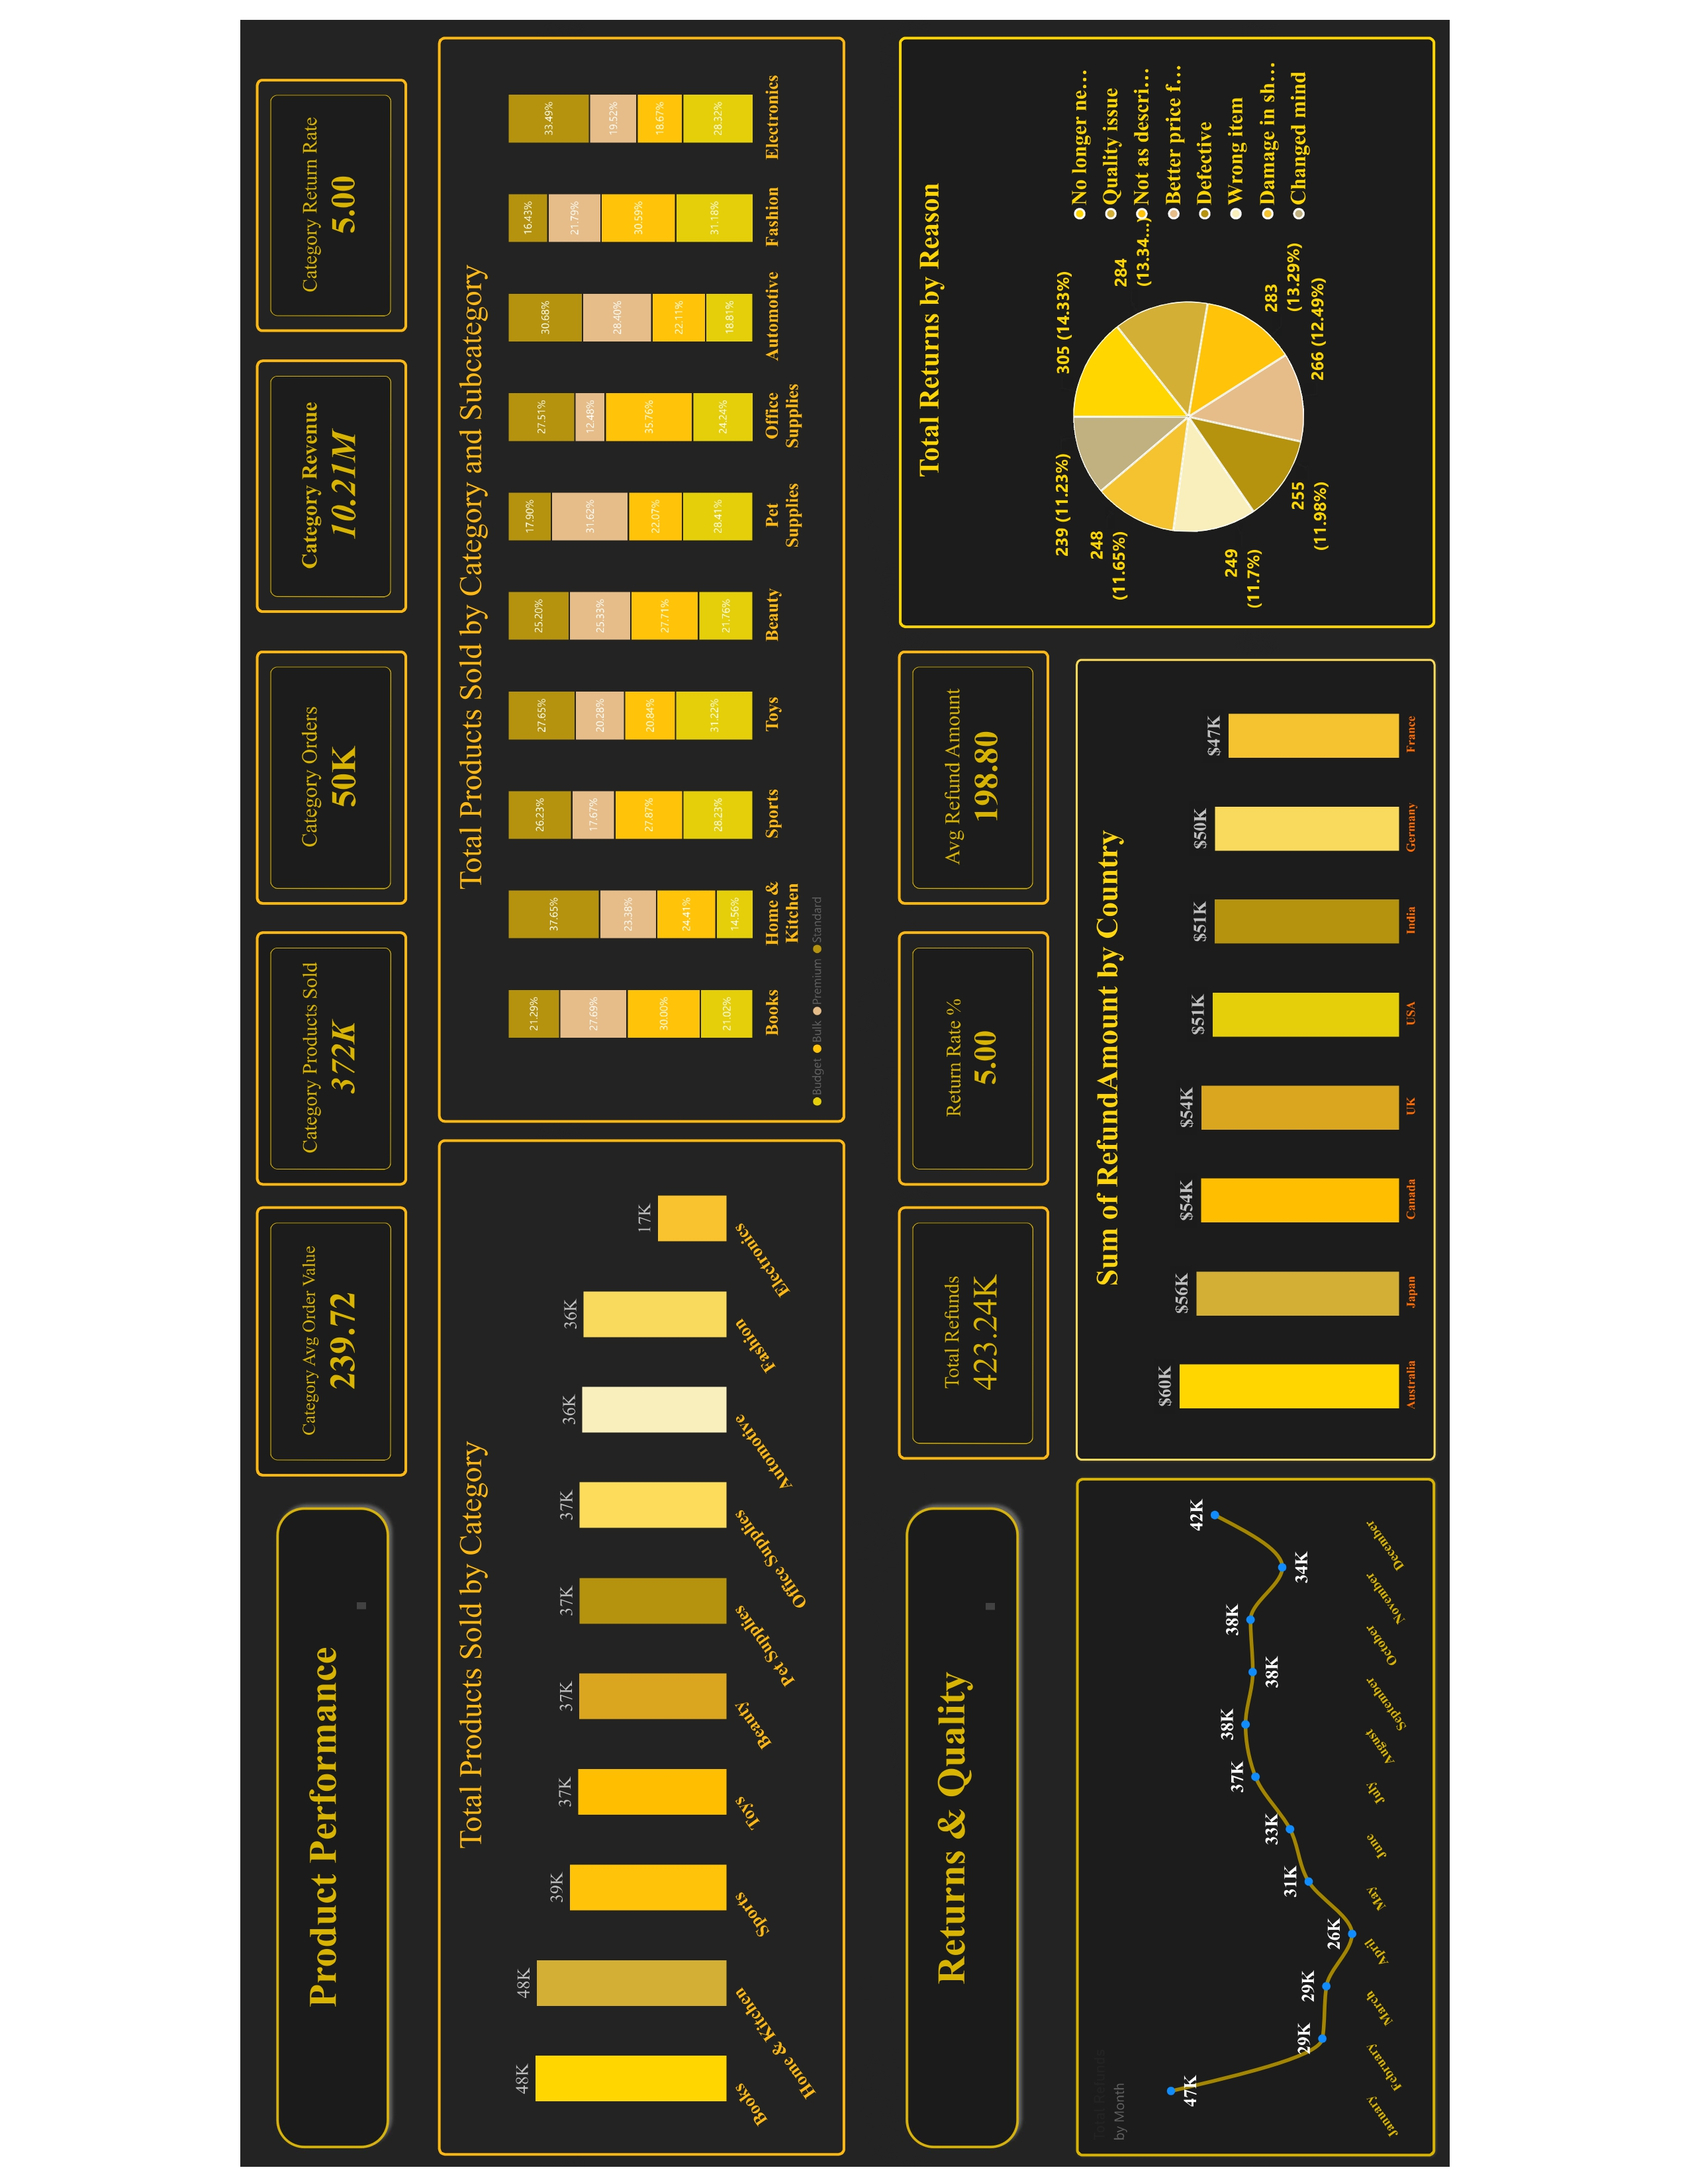

The dashboard page shown, as its layout file describes it:
{"tool":"powerbi","page":{"name":"Product Performance & Returns & Quality","canvas":[2560,1440],"ordinal":2},"visuals":[{"type":"clusteredColumnChart","fields":{"Category":["Products.Category"],"Y":["Products.Total Products Sold"]},"box":[12.5,235,1212.5,485],"z":0},{"type":"cardVisual","fields":{"Data":["Products.Category Avg Order Value"]},"box":[822.5,17.5,322.5,180],"z":1000},{"type":"cardVisual","fields":{"Data":["Products.Category Orders"]},"box":[1505,17.5,302.5,180],"z":2000},{"type":"cardVisual","fields":{"Data":["Products.Category Products Sold"]},"box":[1170,17.5,302.5,180],"z":3000},{"type":"cardVisual","fields":{"Data":["Products.Category Return Rate"]},"box":[2187.5,17.5,302.5,180],"z":4000},{"type":"cardVisual","fields":{"Data":["Products.Category Revenue"]},"box":[1852.5,17.5,302.5,180],"z":5000},{"type":"hundredPercentStackedColumnChart","fields":{"Category":["Products.Category"],"Y":["Products.Total Products Sold"],"Series":["Products.Subcategory"]},"box":[1245,235,1295,485],"z":6000},{"type":"pieChart","fields":{"Y":["Returns.Total Returns"],"Category":["Returns.Reason"]},"box":[1834.9,783.7,704.7,639.5],"z":7000},{"type":"lineChart","fields":{"Category":["Returns.ReturnDate.Variation.Date Hierarchy.Month"],"Y":["Returns.Total Refunds"]},"box":[11.6,995.4,809.3,427.9],"z":8000},{"type":"cardVisual","fields":{"Data":["Returns.Total Refunds"]},"box":[842.5,782.5,302.5,180],"z":9000},{"type":"cardVisual","fields":{"Data":["Returns.Return Rate %"]},"box":[1170,782.5,302.5,180],"z":10000},{"type":"cardVisual","fields":{"Data":["Returns.Avg Refund Amount"]},"box":[1505,782.5,302.5,180],"z":11000},{"type":"clusteredColumnChart","fields":{"Category":["Returns.Country"],"Y":["Sum(Returns.RefundAmount)"]},"box":[841.9,995.4,955.8,427.9],"z":12000},{"type":"shape","box":[12.5,32.5,782.5,152.5],"z":13000},{"type":"shape","box":[12.5,782.5,782.5,152.5],"z":14000},{"type":"textbox","title":"Product Performance","box":[136.1,70.3,537.2,79.1],"z":14001},{"type":"textbox","title":"Returns & Quality","box":[134.9,818.6,537.2,79.1],"z":14002}]}

Visuals, with their boxes on the page's 2560x1440 design canvas (x1, y1, x2, y2). These are canvas units, not pixel positions in the 1688x2184 screenshot, which may show the page scaled, cropped or inside an application window:
clusteredColumnChart - Products.Category x Products.Total Products Sold: left=12, top=235, right=1225, bottom=720
cardVisual - Products.Category Avg Order Value: left=822, top=18, right=1145, bottom=198
cardVisual - Products.Category Orders: left=1505, top=18, right=1808, bottom=198
cardVisual - Products.Category Products Sold: left=1170, top=18, right=1472, bottom=198
cardVisual - Products.Category Return Rate: left=2188, top=18, right=2490, bottom=198
cardVisual - Products.Category Revenue: left=1852, top=18, right=2155, bottom=198
hundredPercentStackedColumnChart - Products.Category x Products.Total Products Sold: left=1245, top=235, right=2540, bottom=720
pieChart - Returns.Total Returns x Returns.Reason: left=1835, top=784, right=2540, bottom=1423
lineChart - Returns.ReturnDate.Variation.Date Hierarchy.Month x Returns.Total Refunds: left=12, top=995, right=821, bottom=1423
cardVisual - Returns.Total Refunds: left=842, top=782, right=1145, bottom=962
cardVisual - Returns.Return Rate %: left=1170, top=782, right=1472, bottom=962
cardVisual - Returns.Avg Refund Amount: left=1505, top=782, right=1808, bottom=962
clusteredColumnChart - Returns.Country x Sum(Returns.RefundAmount): left=842, top=995, right=1798, bottom=1423
shape: left=12, top=32, right=795, bottom=185
shape: left=12, top=782, right=795, bottom=935
"Product Performance" textbox: left=136, top=70, right=673, bottom=149
"Returns & Quality" textbox: left=135, top=819, right=672, bottom=898
